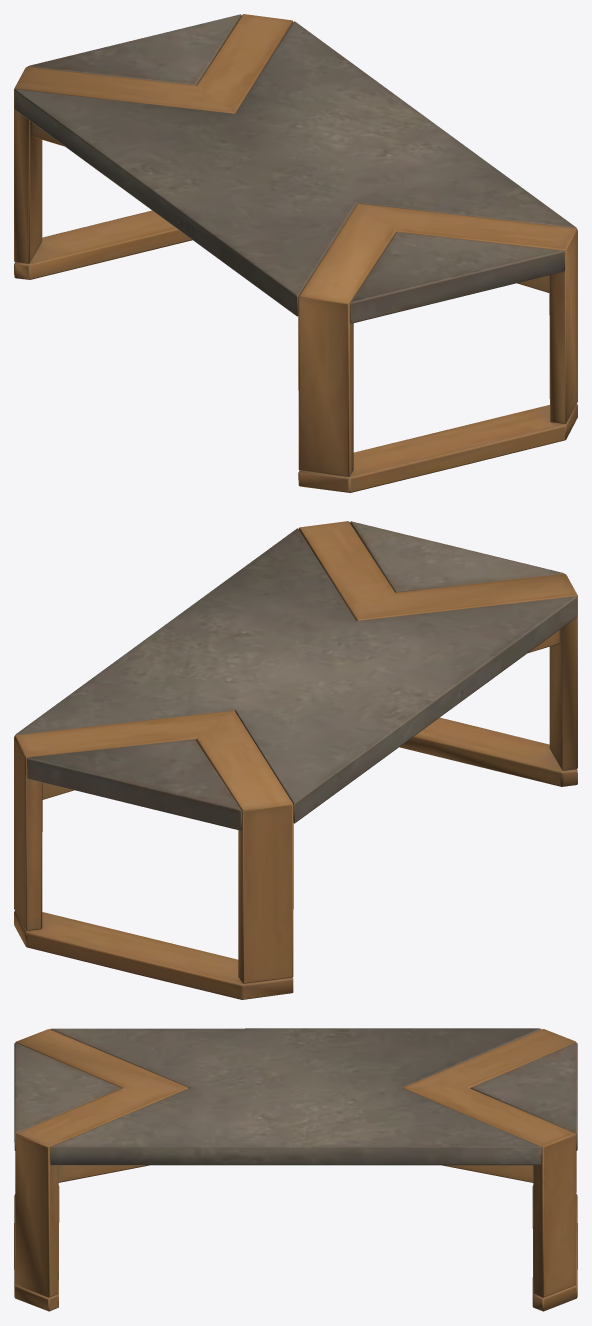
File: coffee_rect.glb
The picture shows the model from 3 angles, top to bottom: view 1: azimuth 30°, elevation 25°; view 2: azimuth 150°, elevation 25°; view 3: azimuth 270°, elevation 25°; orthographic projection. The views are drawn at different scales.
Parts seen in each view (by area): view 1: modern_coffee_table_01; view 2: modern_coffee_table_01; view 3: modern_coffee_table_01.
Part boxes in pixels (x1=…): modern_coffee_table_01: x1=14, y1=14, x2=577, y2=492; modern_coffee_table_01: x1=14, y1=521, x2=577, y2=999; modern_coffee_table_01: x1=14, y1=1028, x2=577, y2=1311.
Bounding box in the file's own units: 0.5999 × 0.39 × 1.2.
1 material, 1 textured.
